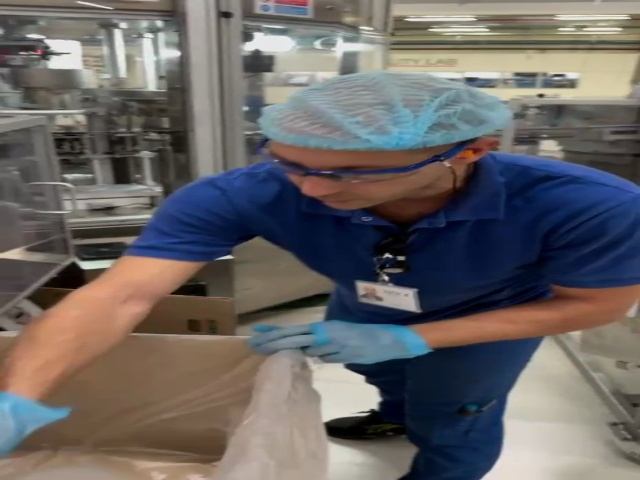Earplug: (442, 138, 494, 166)
Hairnet: (261, 72, 514, 150)
No_Helmet: (264, 75, 512, 145)
No_Vest: (240, 165, 637, 313)
Person: (126, 69, 640, 480)
Safety_Goggles: (263, 138, 498, 180)
